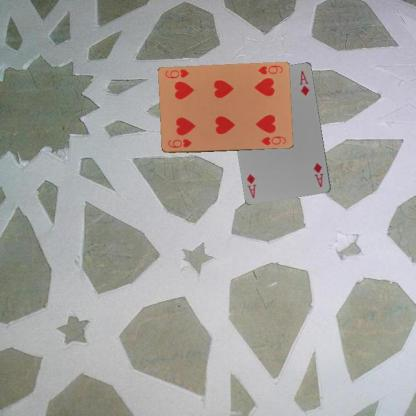6h: (255, 63, 284, 76), (165, 136, 193, 149)
Ad: (311, 160, 325, 188)
